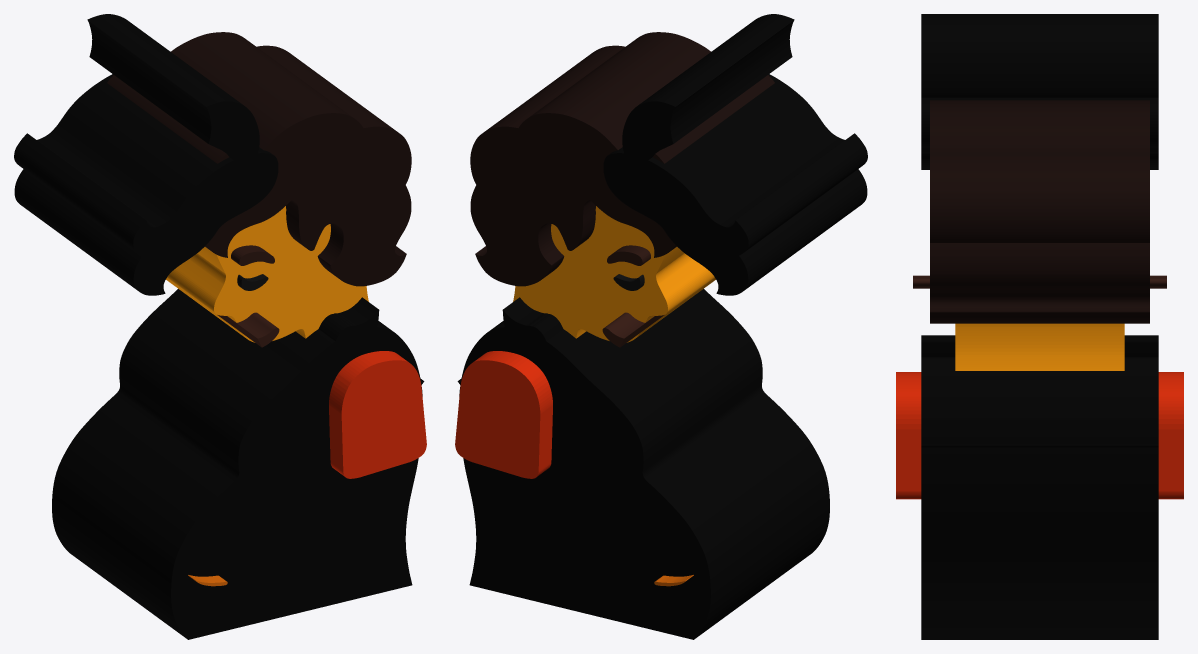
Rendered from U+1FAC4.obj.
3 renders of one model, left to right at view 1: azimuth 30°, elevation 25°; view 2: azimuth 150°, elevation 25°; view 3: azimuth 270°, elevation 25°, orthographic.
Visible parts, largest first — view 1: U+1FAC4_layer04_obj01, U+1FAC4_layer03_obj00, U+1FAC4_layer04_obj04, U+1FAC4_layer00_obj00, U+1FAC4_layer04_obj03, U+1FAC4_layer07_obj00, U+1FAC4_layer04_obj05, U+1FAC4_layer04_obj00, U+1FAC4_layer05_obj00, U+1FAC4_layer02_obj00; view 2: U+1FAC4_layer04_obj01, U+1FAC4_layer03_obj00, U+1FAC4_layer04_obj04, U+1FAC4_layer00_obj00, U+1FAC4_layer04_obj03, U+1FAC4_layer07_obj00, U+1FAC4_layer04_obj05, U+1FAC4_layer04_obj00, U+1FAC4_layer05_obj00, U+1FAC4_layer02_obj00; view 3: U+1FAC4_layer04_obj01, U+1FAC4_layer03_obj00, U+1FAC4_layer04_obj03, U+1FAC4_layer00_obj00, U+1FAC4_layer07_obj00, U+1FAC4_layer04_obj04, U+1FAC4_layer04_obj00, U+1FAC4_layer04_obj02, U+1FAC4_layer05_obj00.
Boxes of the visible parts, box(x1,y1,x2,y2) form: U+1FAC4_layer04_obj01: box(52, 289, 422, 639); U+1FAC4_layer03_obj00: box(107, 32, 411, 286); U+1FAC4_layer04_obj04: box(14, 74, 278, 295); U+1FAC4_layer00_obj00: box(166, 206, 368, 342); U+1FAC4_layer04_obj03: box(87, 14, 259, 176); U+1FAC4_layer07_obj00: box(329, 351, 426, 478); U+1FAC4_layer04_obj05: box(180, 470, 402, 613); U+1FAC4_layer04_obj00: box(318, 297, 379, 377); U+1FAC4_layer05_obj00: box(217, 312, 279, 347); U+1FAC4_layer02_obj00: box(231, 245, 274, 265); U+1FAC4_layer04_obj01: box(459, 289, 829, 639); U+1FAC4_layer03_obj00: box(470, 32, 774, 286); U+1FAC4_layer04_obj04: box(603, 74, 867, 295); U+1FAC4_layer00_obj00: box(513, 206, 715, 342); U+1FAC4_layer04_obj03: box(622, 14, 794, 176); U+1FAC4_layer07_obj00: box(455, 351, 552, 478); U+1FAC4_layer04_obj05: box(479, 465, 701, 613); U+1FAC4_layer04_obj00: box(502, 297, 563, 377); U+1FAC4_layer05_obj00: box(602, 312, 664, 347); U+1FAC4_layer02_obj00: box(607, 245, 650, 265); U+1FAC4_layer04_obj01: box(921, 357, 1158, 639); U+1FAC4_layer03_obj00: box(930, 100, 1149, 323); U+1FAC4_layer04_obj03: box(921, 14, 1158, 97); U+1FAC4_layer00_obj00: box(955, 323, 1124, 370); U+1FAC4_layer07_obj00: box(896, 372, 1183, 499); U+1FAC4_layer04_obj04: box(921, 97, 1158, 169); U+1FAC4_layer04_obj00: box(921, 335, 1158, 357); U+1FAC4_layer04_obj02: box(921, 444, 1158, 447); U+1FAC4_layer05_obj00: box(913, 275, 1166, 288).
Bounding box in the file's own units: 0.1976 × 0.3437 × 0.17.
